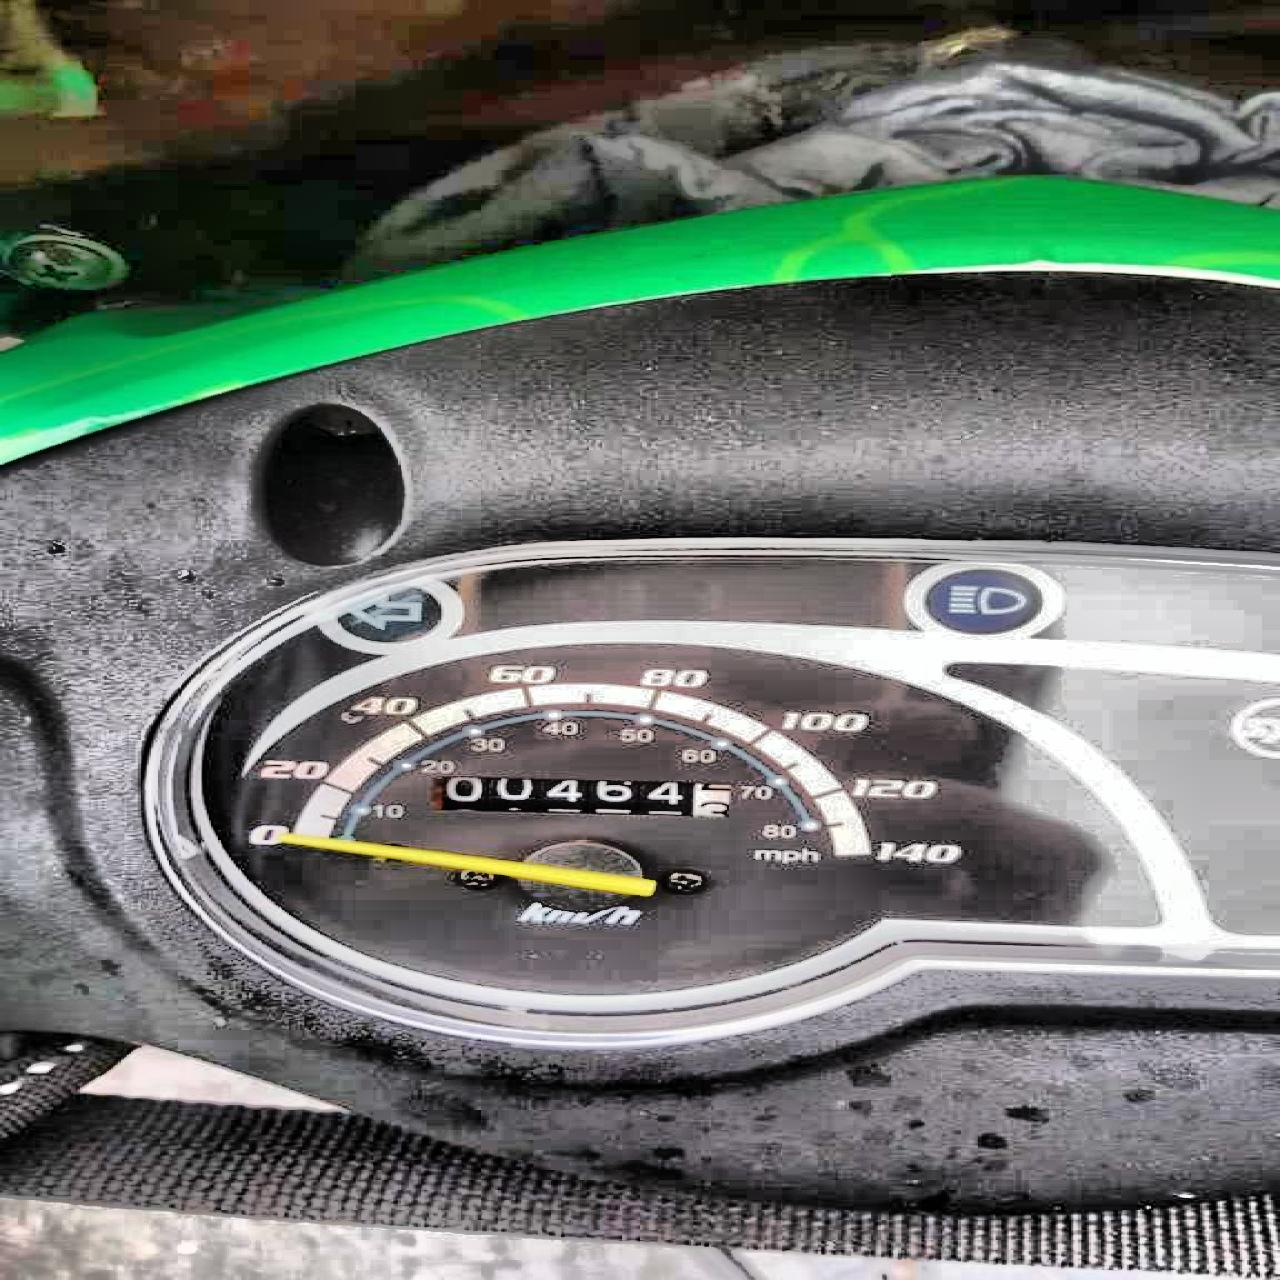0: (489, 772, 538, 799), (442, 775, 482, 801)
3: (692, 796, 731, 818)
4: (540, 777, 583, 803), (645, 777, 682, 805)
6: (593, 776, 635, 804)
7: (737, 783, 754, 798)
odometer: (424, 769, 756, 824)
